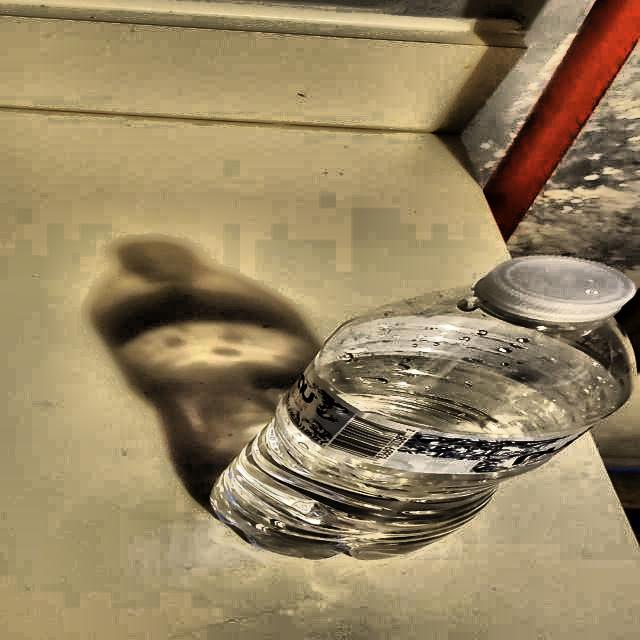plastic bottle: (211, 256, 637, 559)
